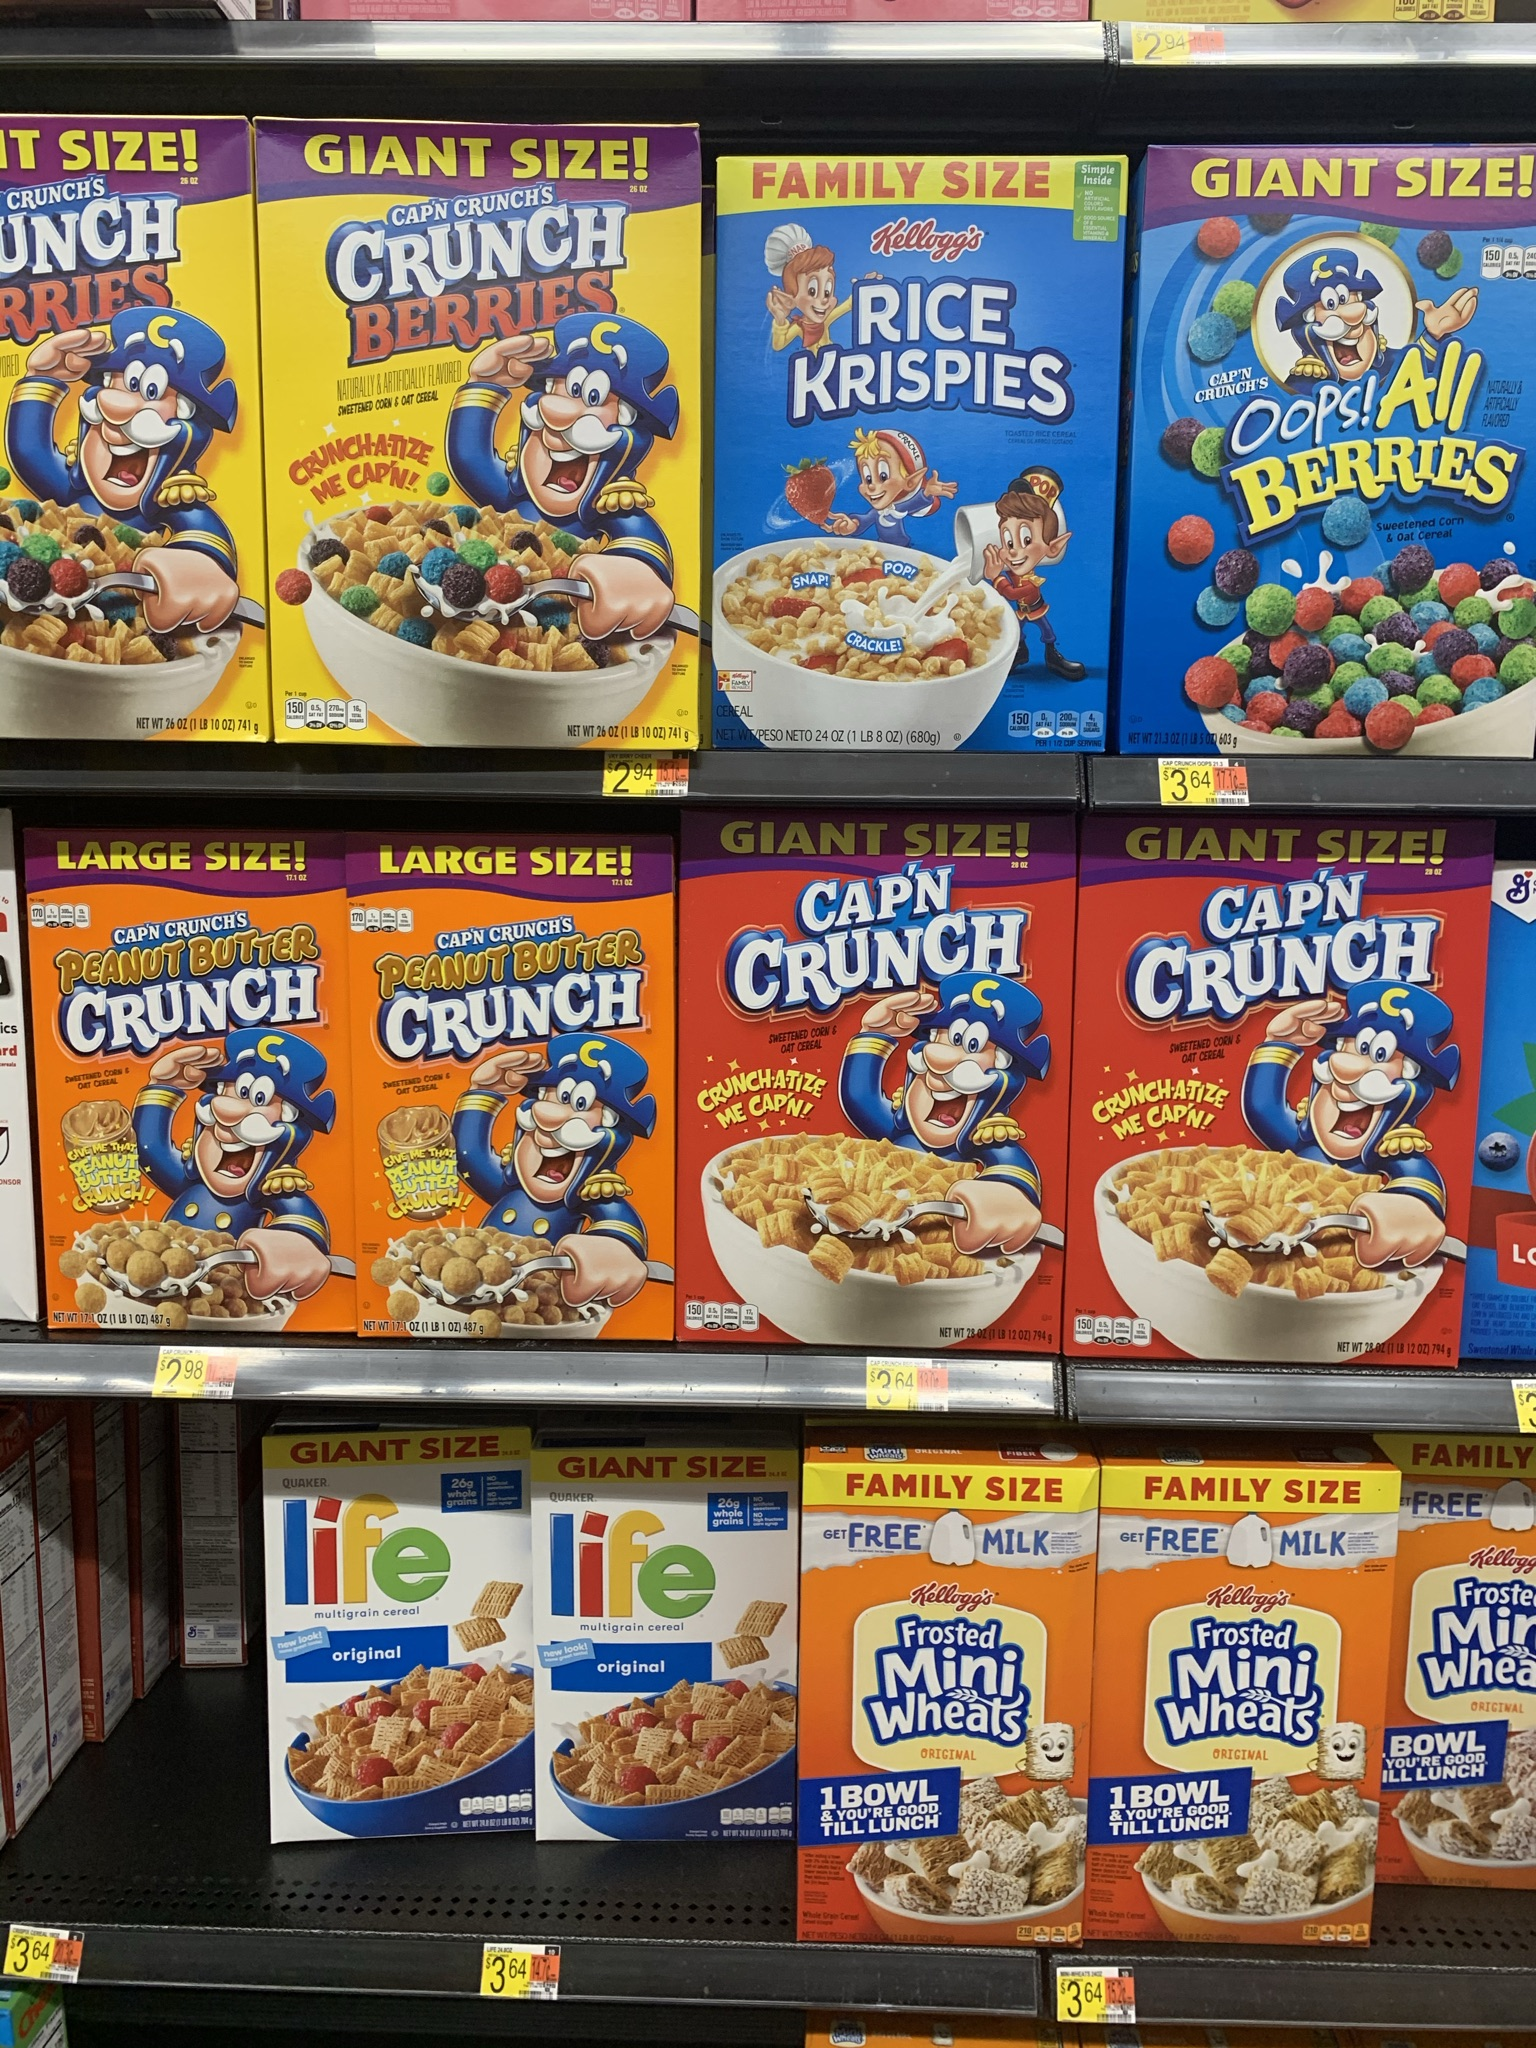box: (281, 126, 697, 740), (1158, 164, 1521, 755), (734, 181, 1104, 735), (1089, 842, 1468, 1356), (695, 819, 1050, 1335), (363, 851, 671, 1338), (47, 835, 345, 1327), (2, 126, 239, 731), (1105, 1492, 1368, 1945), (812, 1532, 1075, 1945), (295, 1464, 528, 1825), (555, 1500, 783, 1837)
